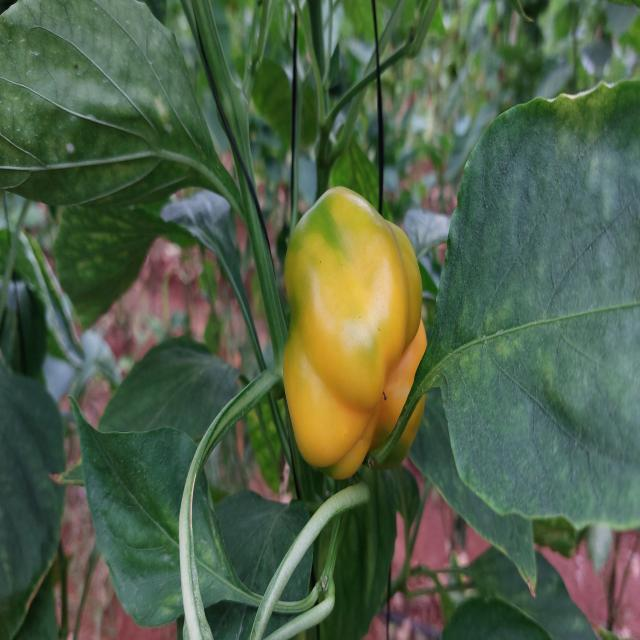Yellow-Ready-to-Harvest: (281, 182, 431, 482)
